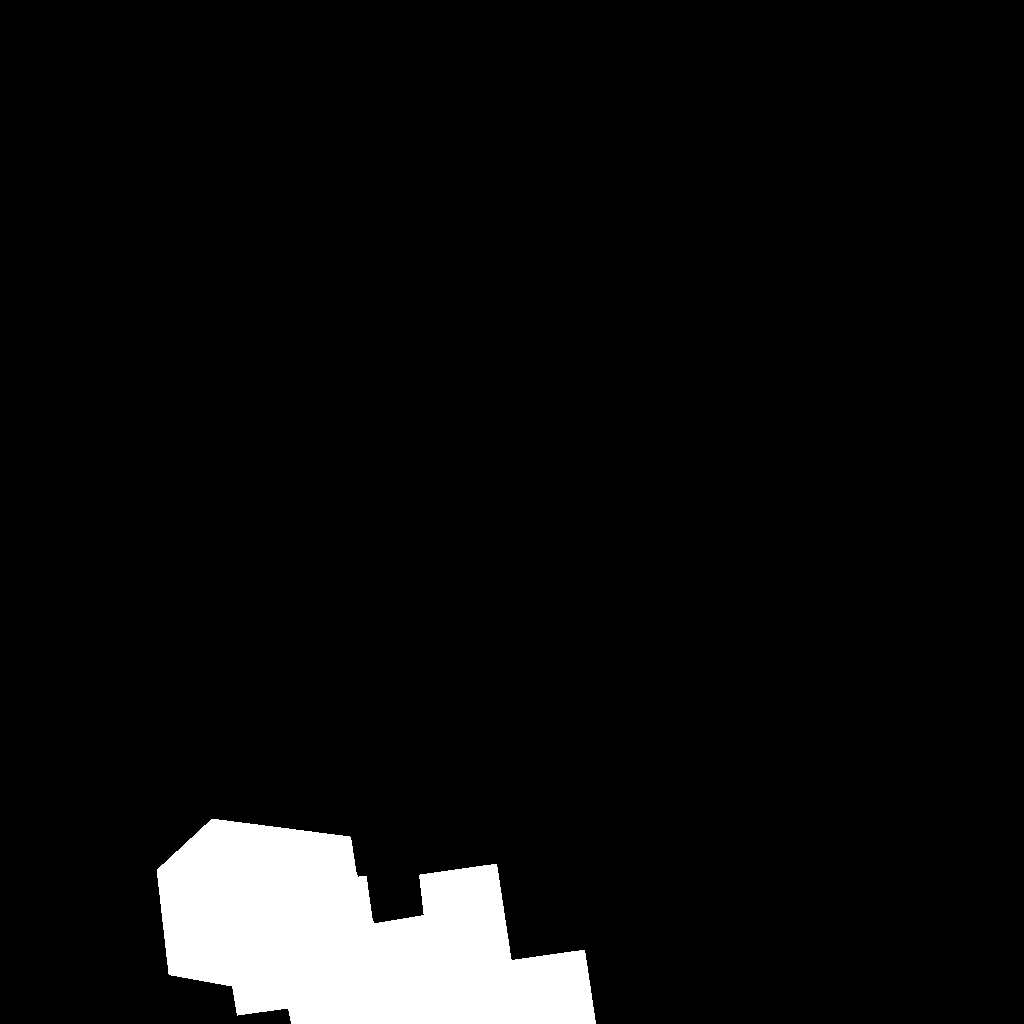building: (157, 819, 597, 1024)
